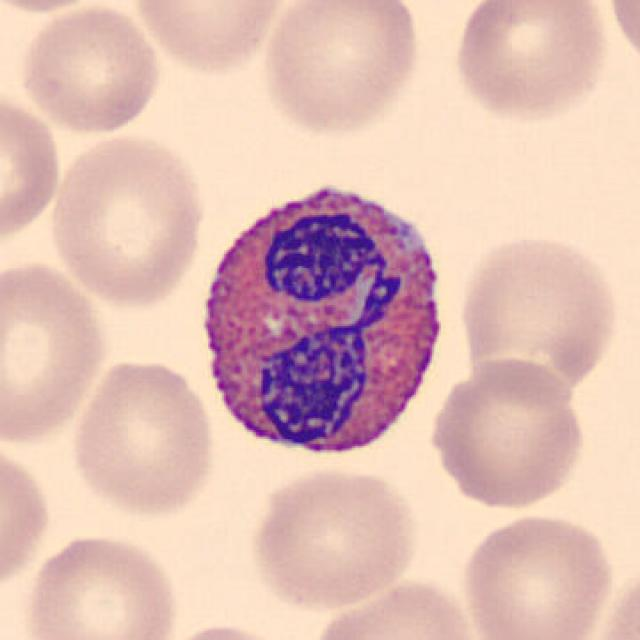Eosinophil: (185, 166, 460, 478)
RBC: (44, 129, 210, 310), (455, 229, 622, 402), (243, 462, 425, 612), (425, 354, 590, 513), (65, 354, 218, 522), (256, 0, 425, 139), (0, 256, 110, 450), (457, 509, 617, 640), (448, 0, 613, 125), (14, 2, 164, 136), (20, 529, 183, 640), (130, 0, 293, 76), (306, 575, 484, 640), (0, 86, 64, 248), (0, 435, 53, 602), (585, 559, 640, 640), (150, 619, 308, 640), (601, 0, 640, 74), (0, 0, 119, 16)
